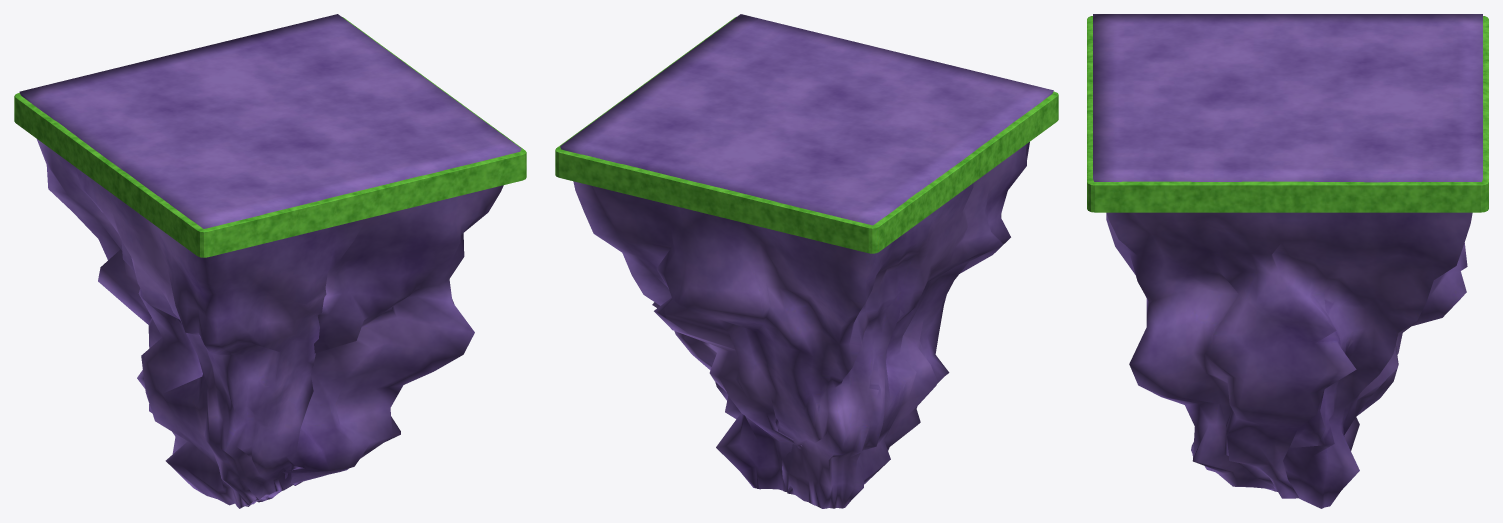
The model's file is island_rect.glb.
The picture shows the model from 3 angles, left to right: view 1: azimuth 30°, elevation 25°; view 2: azimuth 150°, elevation 25°; view 3: azimuth 270°, elevation 25°; orthographic projection. The views are drawn at different scales.
Parts seen in each view (by area): view 1: island_rect; view 2: island_rect; view 3: island_rect.
Boxes of the visible parts, x1,y1,x2,y2 form: island_rect: [14, 14, 526, 508]; island_rect: [555, 14, 1058, 508]; island_rect: [1087, 14, 1488, 508].
Size of the model in its own units: 1.03 by 1.12 by 1.03.
Materials: 1 (1 with a texture image).
